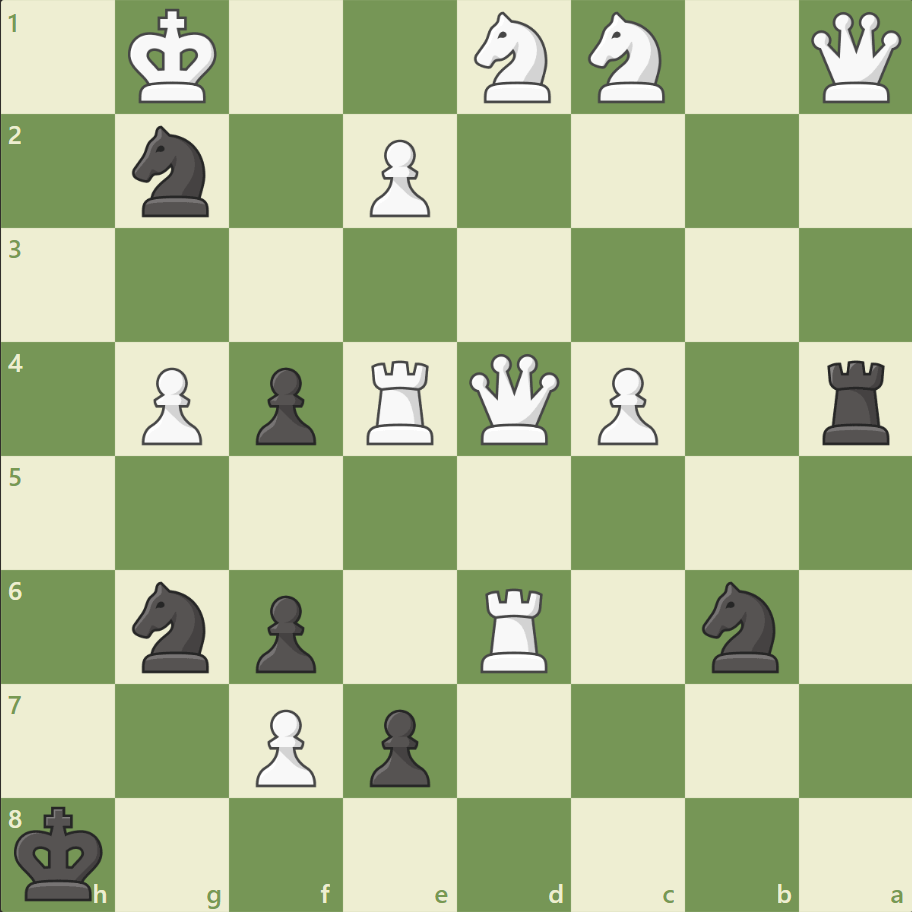K: (124, 4, 224, 112)
N: (579, 7, 676, 110), (465, 7, 562, 110)
P: (247, 700, 322, 791), (133, 359, 208, 450), (588, 359, 662, 450), (361, 132, 435, 223)
Q: (464, 349, 563, 449), (805, 9, 904, 108)
R: (473, 579, 556, 676), (360, 352, 442, 449)
k: (11, 798, 111, 906)
n: (124, 575, 222, 677), (124, 121, 222, 223), (692, 575, 789, 677)
p: (247, 586, 322, 677), (247, 359, 322, 450), (361, 700, 435, 791)
r: (814, 352, 897, 449)
